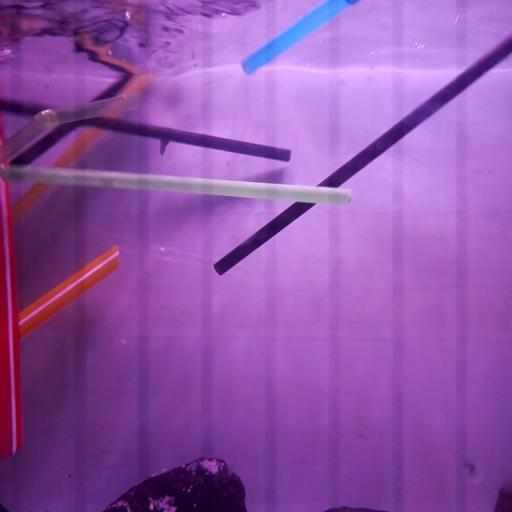plastic_straw: (214, 37, 512, 277), (12, 71, 156, 231), (2, 95, 295, 166), (0, 162, 353, 206), (14, 72, 130, 172), (16, 244, 121, 342), (240, 0, 355, 81), (3, 94, 141, 161), (0, 176, 24, 461)
